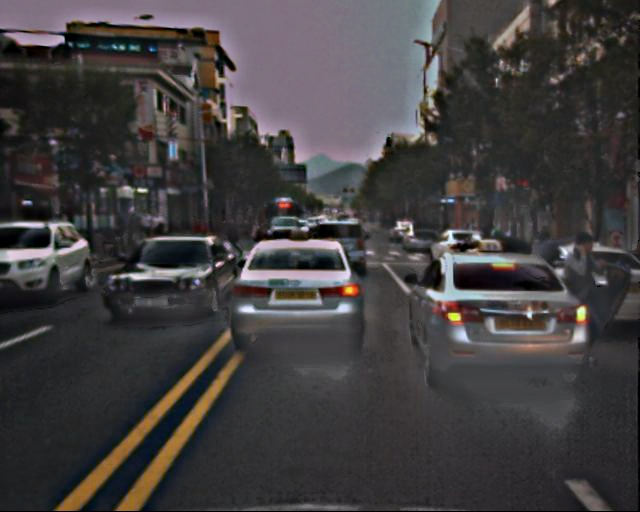person: (551, 231, 608, 371), (523, 229, 560, 320), (108, 207, 168, 251), (226, 218, 242, 257)
